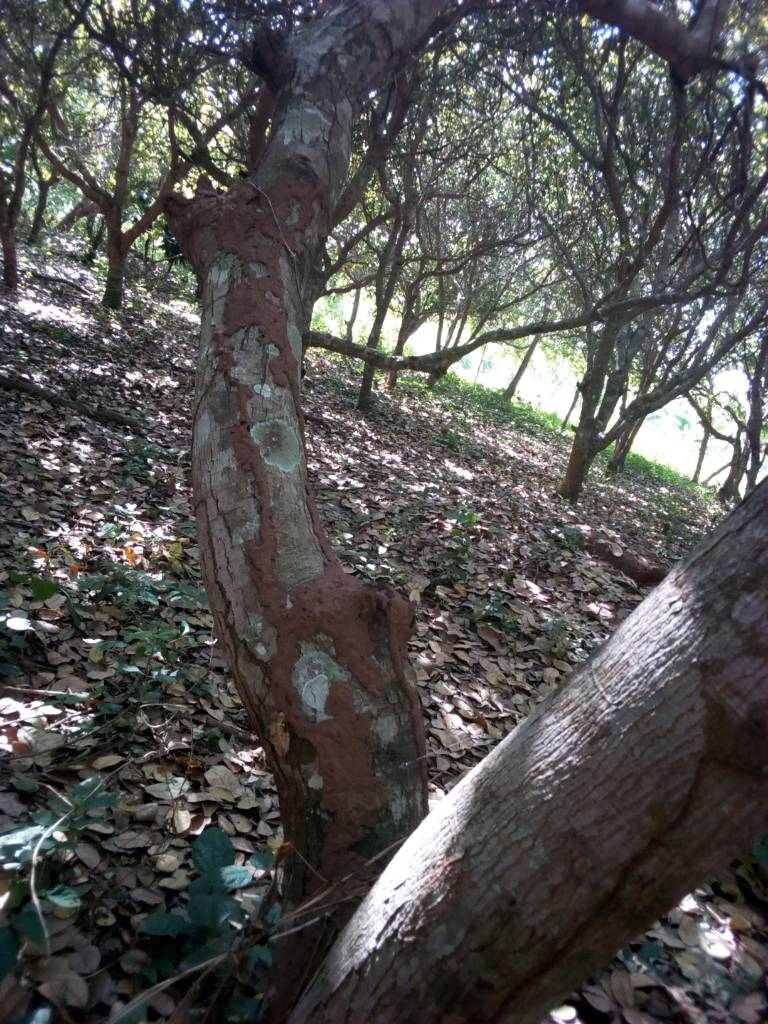Termites: (243, 550, 436, 825), (180, 175, 316, 399), (229, 403, 327, 544)
